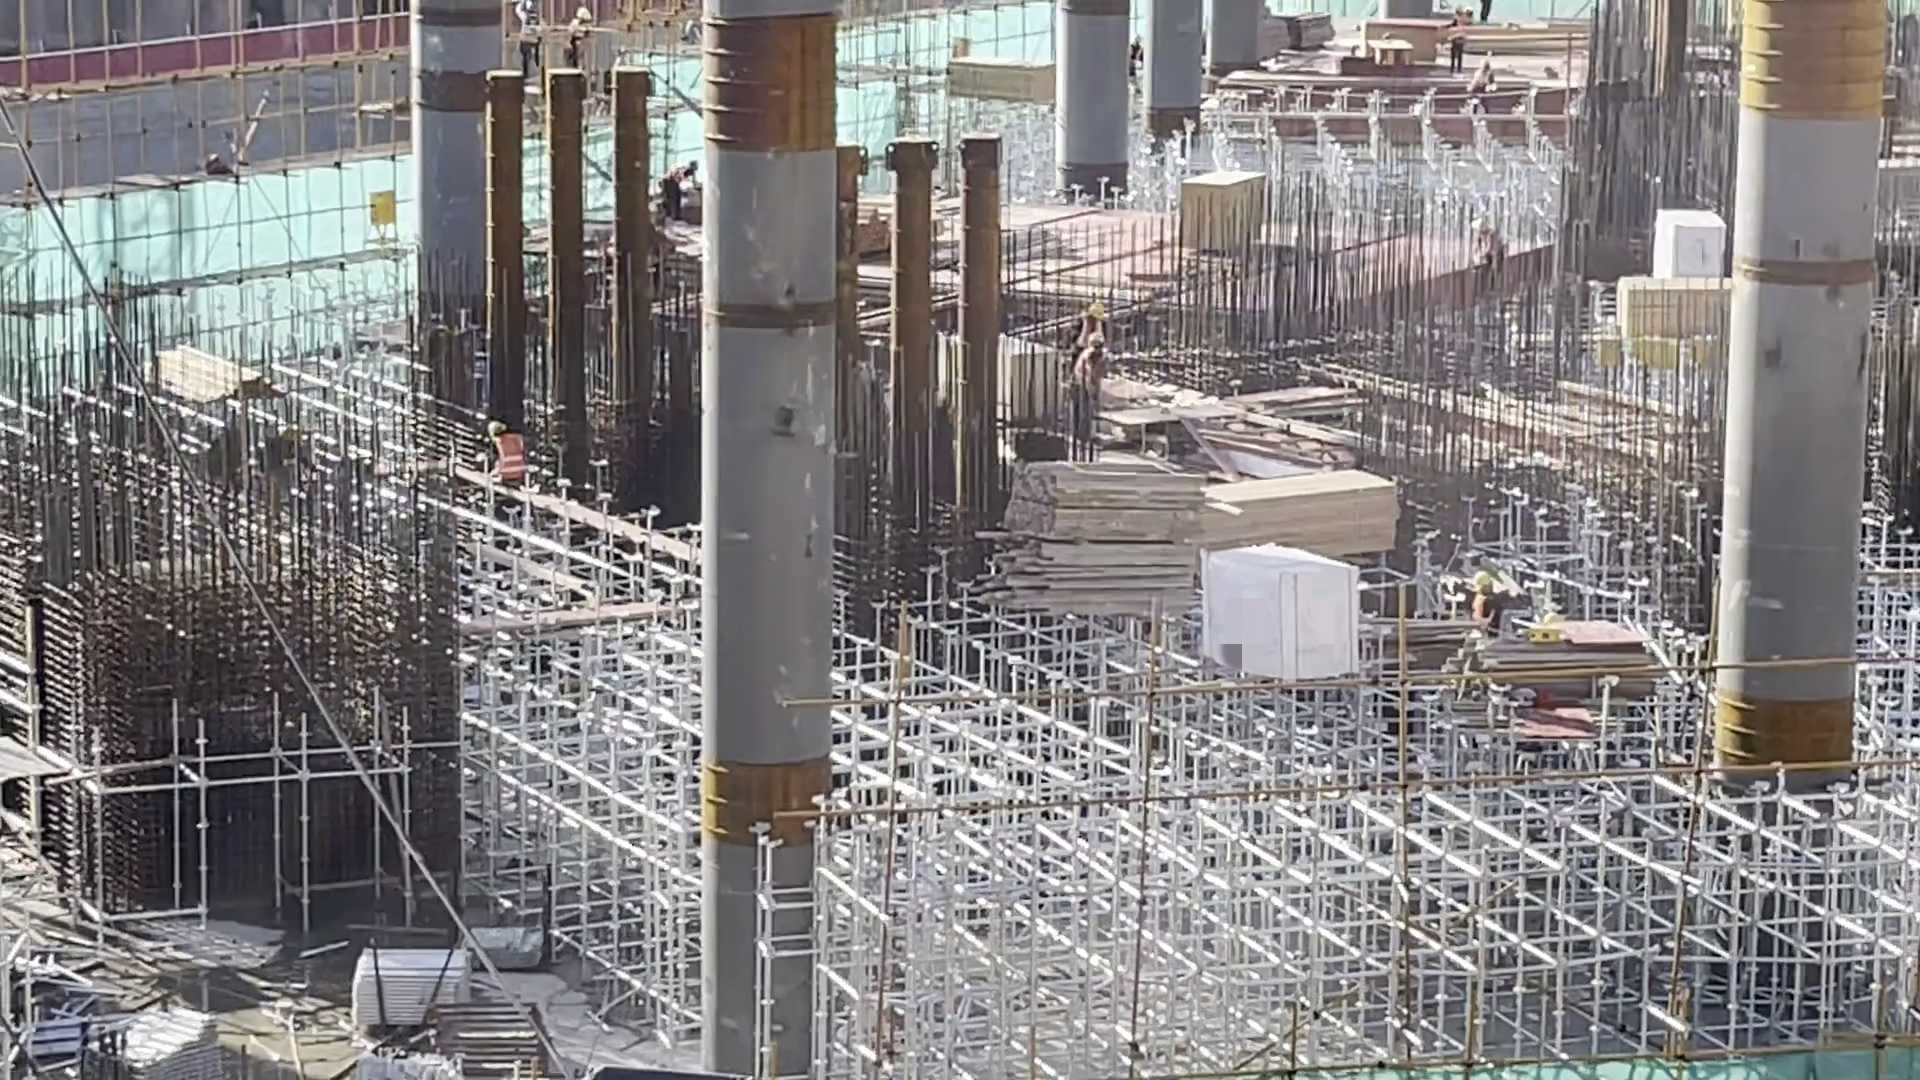board: (1463, 629, 1658, 717), (923, 342, 1078, 427), (1158, 160, 1269, 264), (946, 53, 1062, 103), (1380, 16, 1468, 74), (1251, 6, 1322, 51)
helmet: (1467, 567, 1495, 585), (1095, 301, 1109, 323), (489, 417, 506, 434), (679, 152, 698, 168), (1457, 4, 1469, 21), (1470, 219, 1489, 230), (1093, 334, 1107, 348), (1131, 32, 1146, 45), (1475, 57, 1489, 68), (575, 9, 588, 20), (532, 4, 542, 13)
person: (1469, 571, 1543, 641), (489, 418, 534, 503), (664, 153, 706, 236), (1081, 335, 1106, 423), (1471, 220, 1503, 285), (514, 1, 546, 60), (566, 13, 603, 61), (1091, 300, 1124, 350), (1478, 45, 1496, 125), (1450, 3, 1468, 64), (1128, 33, 1144, 93), (1483, 1, 1494, 28)
scaffold: (348, 936, 513, 1036), (63, 1004, 216, 1080)
vest: (491, 437, 526, 481), (1473, 602, 1521, 629), (1083, 318, 1113, 347), (1074, 357, 1099, 392), (520, 16, 543, 44), (666, 167, 692, 189), (1480, 229, 1498, 259), (1476, 65, 1494, 91), (566, 22, 592, 41), (1129, 46, 1145, 63), (1453, 29, 1466, 48)
wood: (1014, 447, 1183, 604), (1613, 284, 1861, 376), (1204, 484, 1406, 554), (178, 301, 283, 399)
